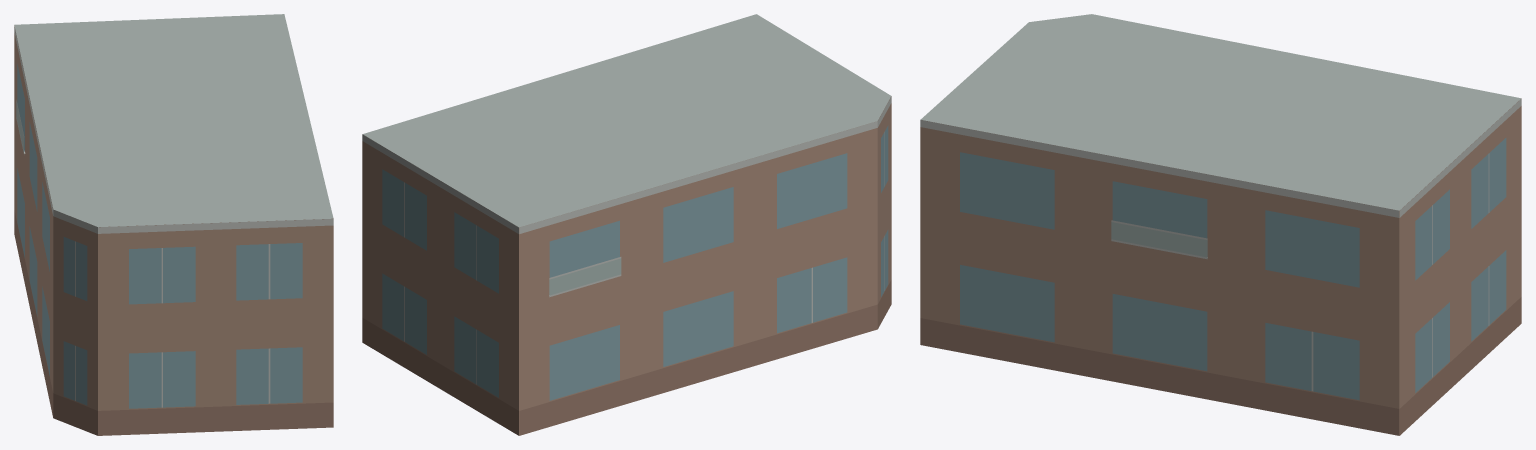
File: survey-upis-32640821.glb
The picture shows the model from 3 angles, left to right: view 1: azimuth 30°, elevation 25°; view 2: azimuth 150°, elevation 25°; view 3: azimuth 270°, elevation 25°; orthographic projection. The views are drawn at different scales.
Parts seen in each view (by area): view 1: survey-upis-32640821.tmp; view 2: survey-upis-32640821.tmp; view 3: survey-upis-32640821.tmp.
Part boxes in pixels (left/top/right/bottom): survey-upis-32640821.tmp: left=14, top=14, right=333, bottom=435; survey-upis-32640821.tmp: left=362, top=14, right=891, bottom=435; survey-upis-32640821.tmp: left=920, top=14, right=1521, bottom=435.
Bounding box in the file's own units: 14.06 × 7.5 × 18.16.
